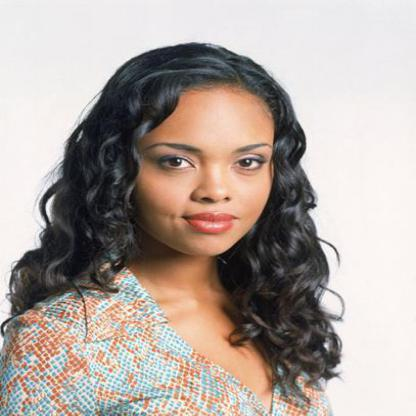long-hair: (21, 250, 327, 301)
